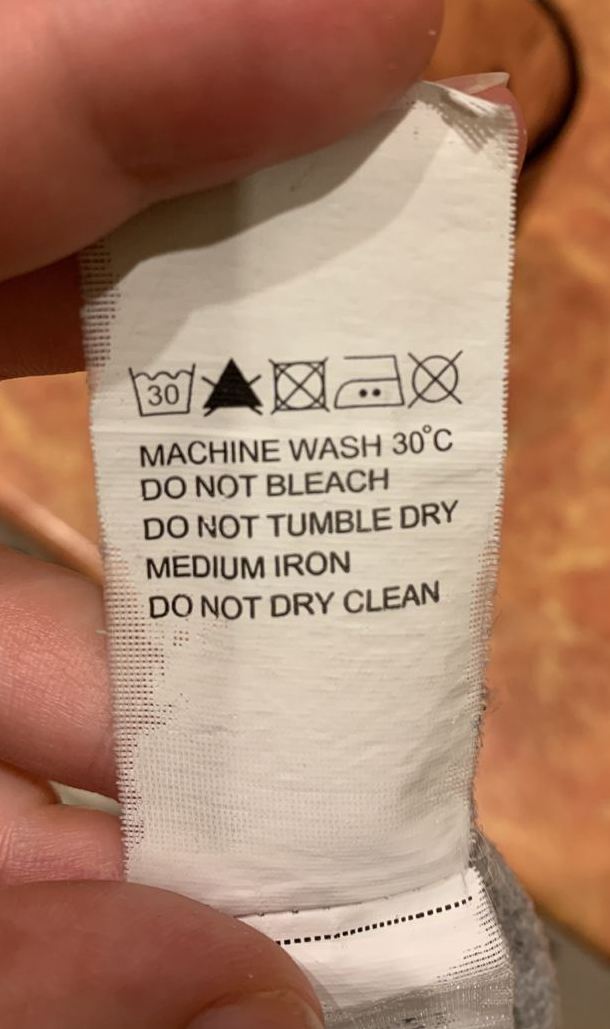do_not_bleach: (198, 353, 267, 421)
do_not_dry_clean: (406, 342, 471, 412)
do_not_tumble_drying: (267, 349, 335, 419)
ironing_at_med_temp: (331, 348, 405, 417)
wash_at_or_below_30: (123, 355, 202, 421)
